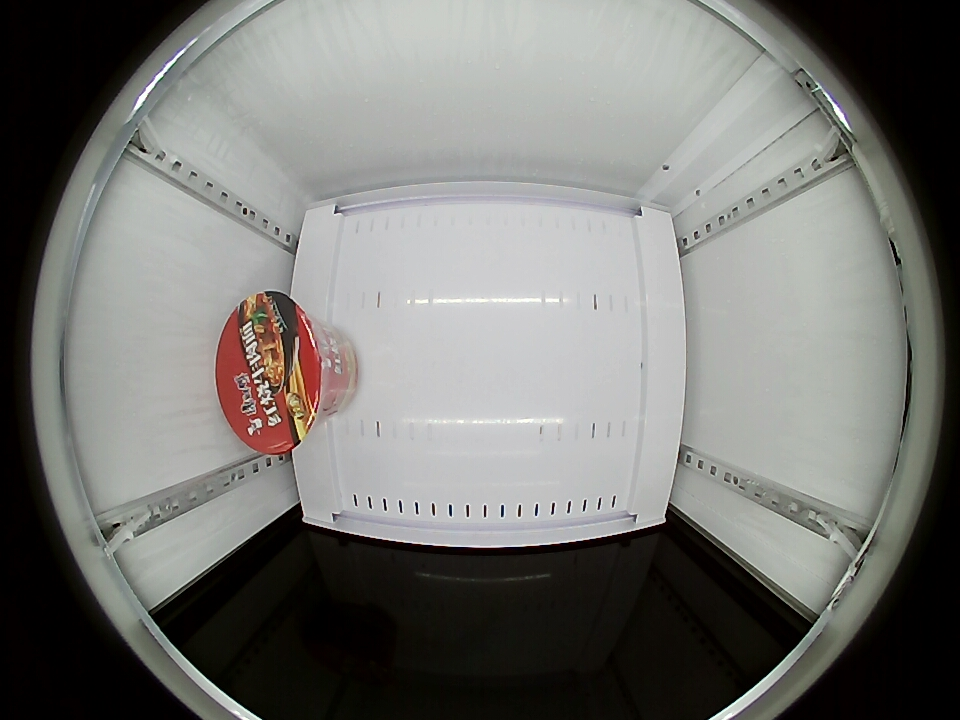hongshaoniurou: (215, 292, 333, 452)
